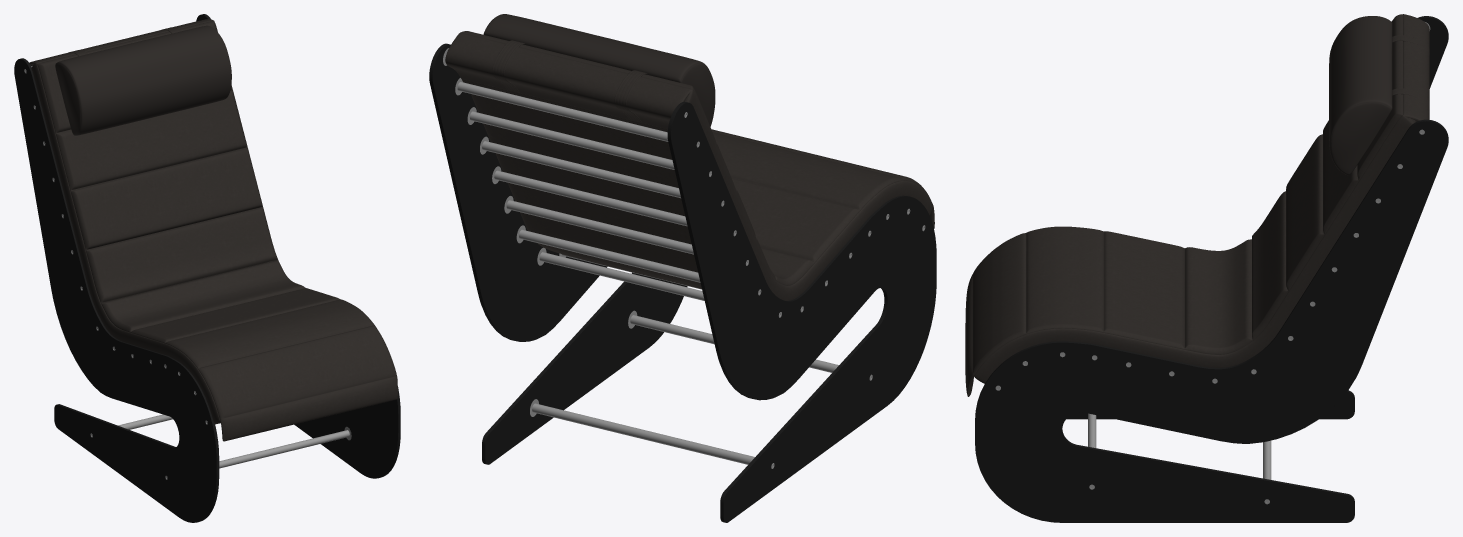
File: angel-poltrona-teknofibra-40.glb
3 views of the same model, side by side, from view 1: azimuth 30°, elevation 25°; view 2: azimuth 150°, elevation 25°; view 3: azimuth 270°, elevation 25° (orthographic). The views are drawn at different scales.
Parts seen in each view (by area): view 1: angel-seduta, angel-struttura, angel-tubolare; view 2: angel-struttura, angel-seduta, angel-tubolare; view 3: angel-struttura, angel-seduta, angel-tubolare.
Boxes of the visible parts, box(x1,y1,x2,y2) form: angel-seduta: box(29, 19, 397, 441); angel-struttura: box(14, 14, 400, 522); angel-tubolare: box(24, 66, 351, 479); angel-struttura: box(429, 43, 936, 522); angel-seduta: box(445, 14, 934, 300); angel-tubolare: box(443, 48, 925, 468); angel-struttura: box(975, 16, 1448, 522); angel-seduta: box(965, 14, 1429, 396); angel-tubolare: box(995, 22, 1430, 504).
Bounding box in the file's own units: 0.5685 × 1.04 × 1.1.
Materials: 3 (1 with a texture image).
